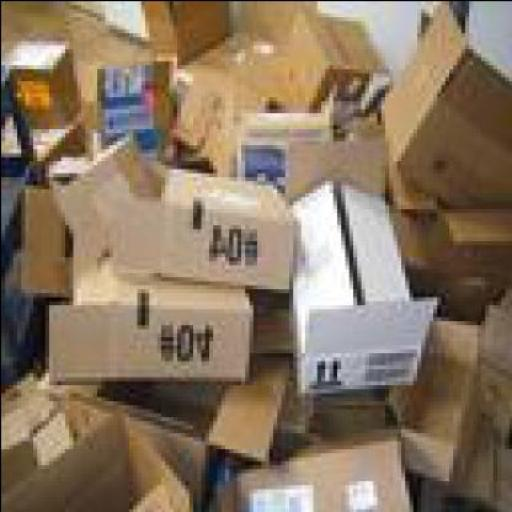cardboard: (292, 176, 432, 384), (320, 308, 484, 476), (383, 1, 511, 206), (4, 4, 172, 136), (52, 276, 256, 376), (64, 380, 224, 496), (4, 412, 196, 508), (56, 127, 164, 296), (151, 164, 304, 280), (176, 24, 292, 164), (4, 368, 112, 508), (420, 356, 510, 510), (240, 432, 416, 508), (240, 108, 384, 200), (404, 204, 510, 306), (284, 12, 392, 108), (423, 203, 511, 316), (212, 352, 300, 455), (4, 36, 76, 120), (143, 1, 236, 64), (28, 184, 68, 296), (4, 1, 104, 36), (232, 1, 316, 32)
